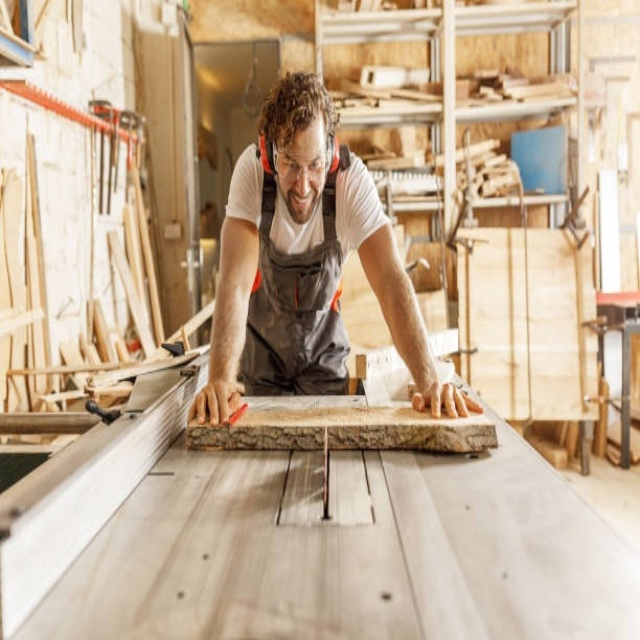Gafas: (274, 137, 330, 181)
Sin_guantes: (410, 382, 483, 419), (193, 380, 247, 426)
Sin_mascara: (284, 185, 315, 223)
